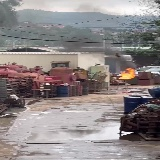fire: (119, 68, 135, 79)
